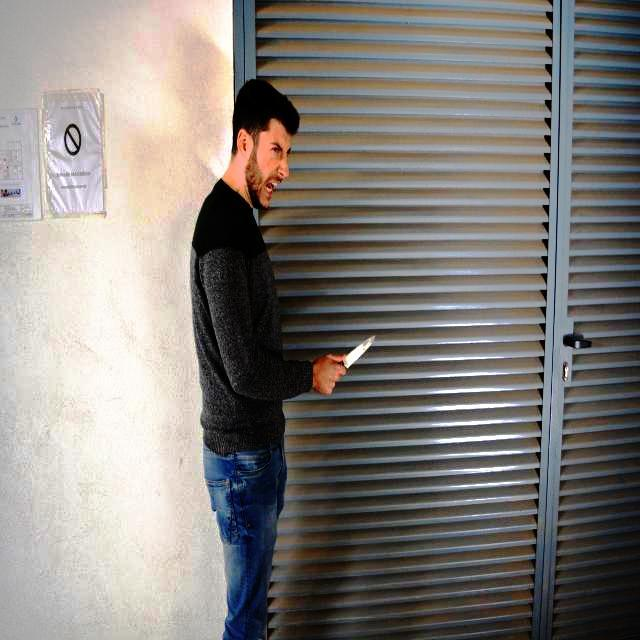Knife: (345, 329, 381, 369)
